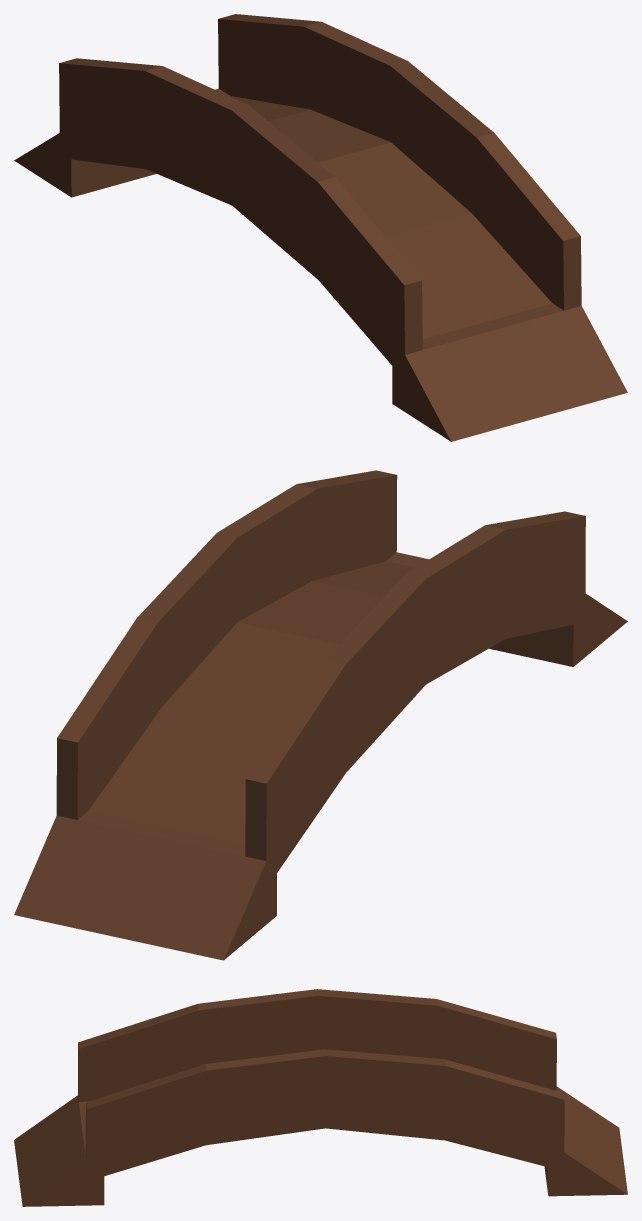
File: WoodenBridge.fbx
3 renders of one model, top to bottom at view 1: azimuth 30°, elevation 25°; view 2: azimuth 150°, elevation 25°; view 3: azimuth 270°, elevation 25°, orthographic. The views are drawn at different scales.
Parts seen in each view (by area): view 1: Bridge; view 2: Bridge; view 3: Bridge.
Boxes of the visible parts, left/top/right/bottom form: Bridge: left=14, top=14, right=627, bottom=441; Bridge: left=14, top=470, right=627, bottom=960; Bridge: left=14, top=989, right=627, bottom=1206.
Size of the model in its own units: 2.41 by 2.02 by 7.7.
